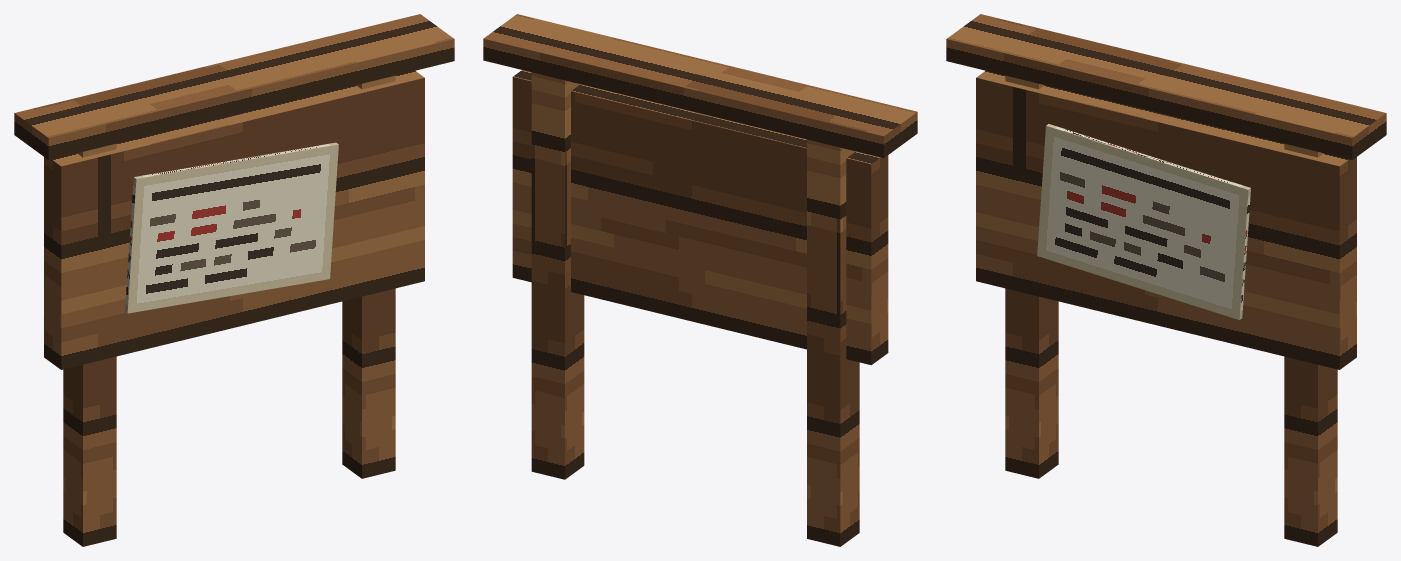
Rendered from sign.glb.
The picture shows the model from 3 angles, left to right: view 1: azimuth 30°, elevation 25°; view 2: azimuth 150°, elevation 25°; view 3: azimuth 330°, elevation 25°; orthographic projection.
Visible parts, largest first — view 1: sign; view 2: sign; view 3: sign.
Part boxes in pixels (x1,y1,x2,y2): sign: [14, 14, 454, 546]; sign: [483, 14, 917, 546]; sign: [946, 14, 1386, 546].
Bounding box in the file's own units: 1.09 × 1.1 × 0.1588.
2 materials, 2 textured.
